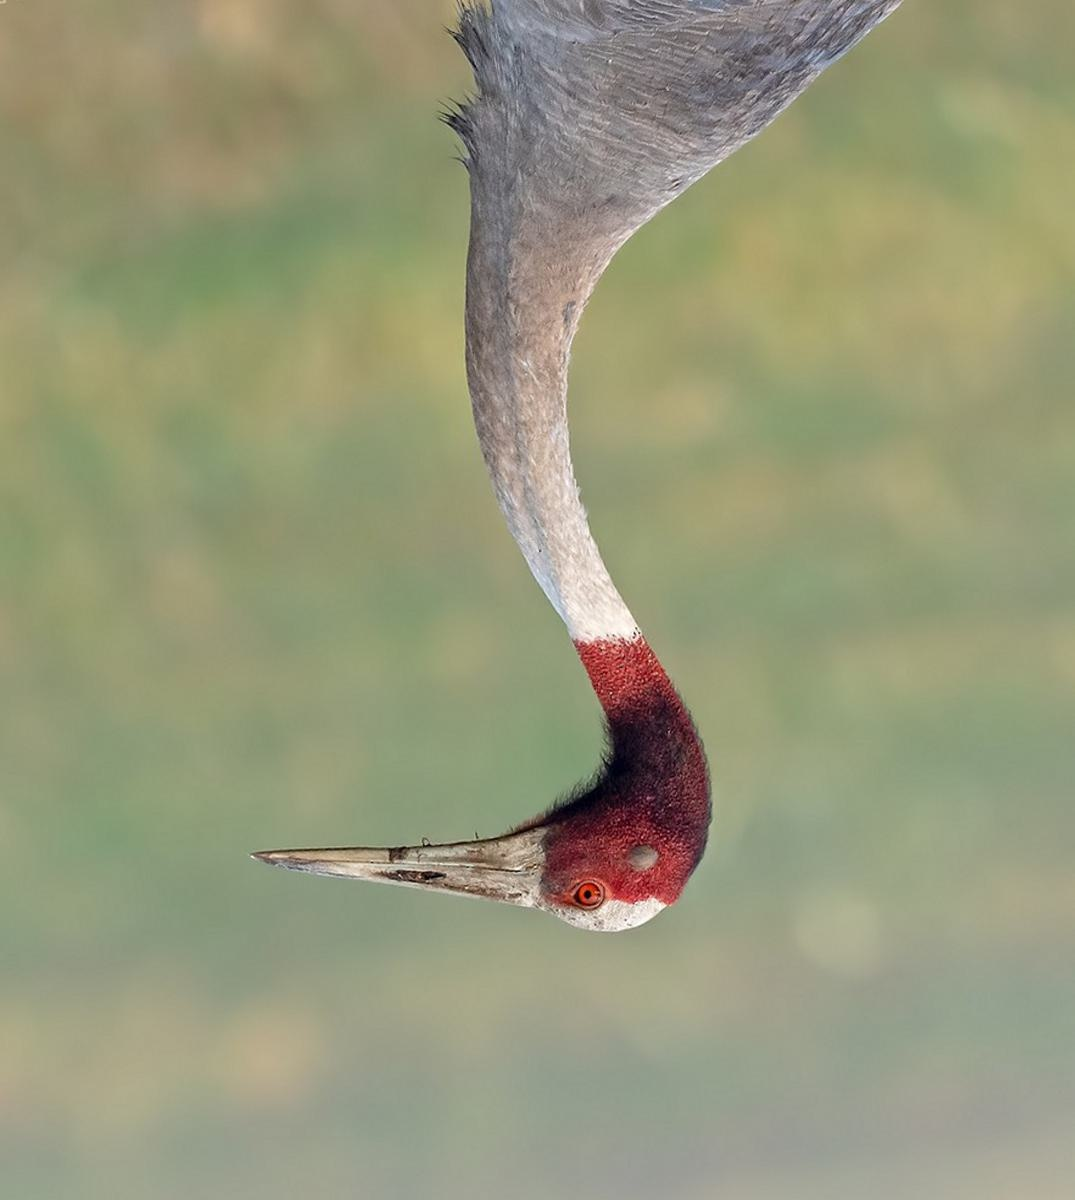crane: (222, 1, 950, 930)
